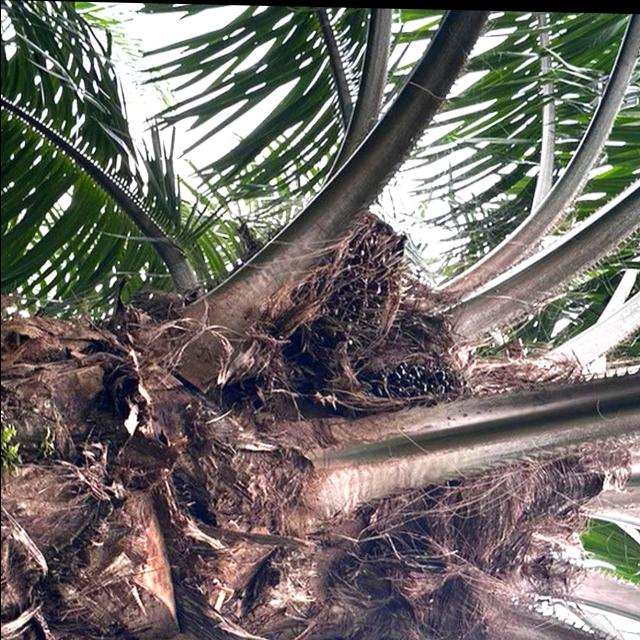ripe: (282, 199, 414, 371)
